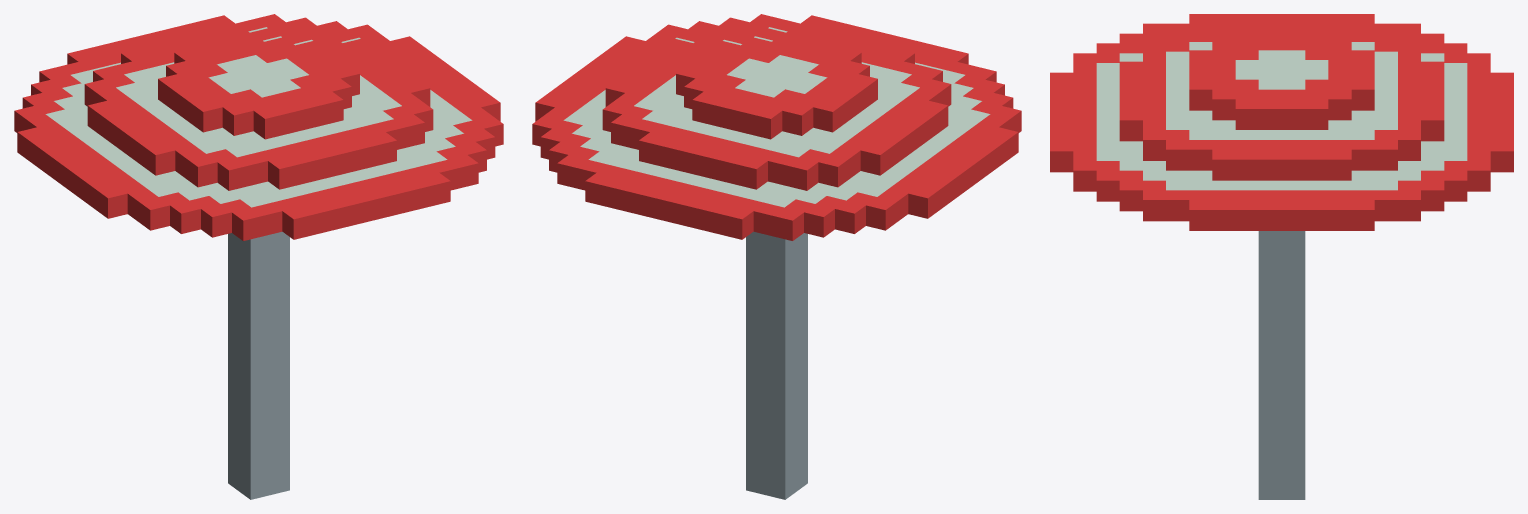
File: umbrella.obj
3 views of the same model, side by side, from view 1: azimuth 30°, elevation 25°; view 2: azimuth 150°, elevation 25°; view 3: azimuth 270°, elevation 25° (orthographic). The views are drawn at different scales.
Bounding box in the file's own units: 2 × 2 × 2.
1 material, 1 textured.
